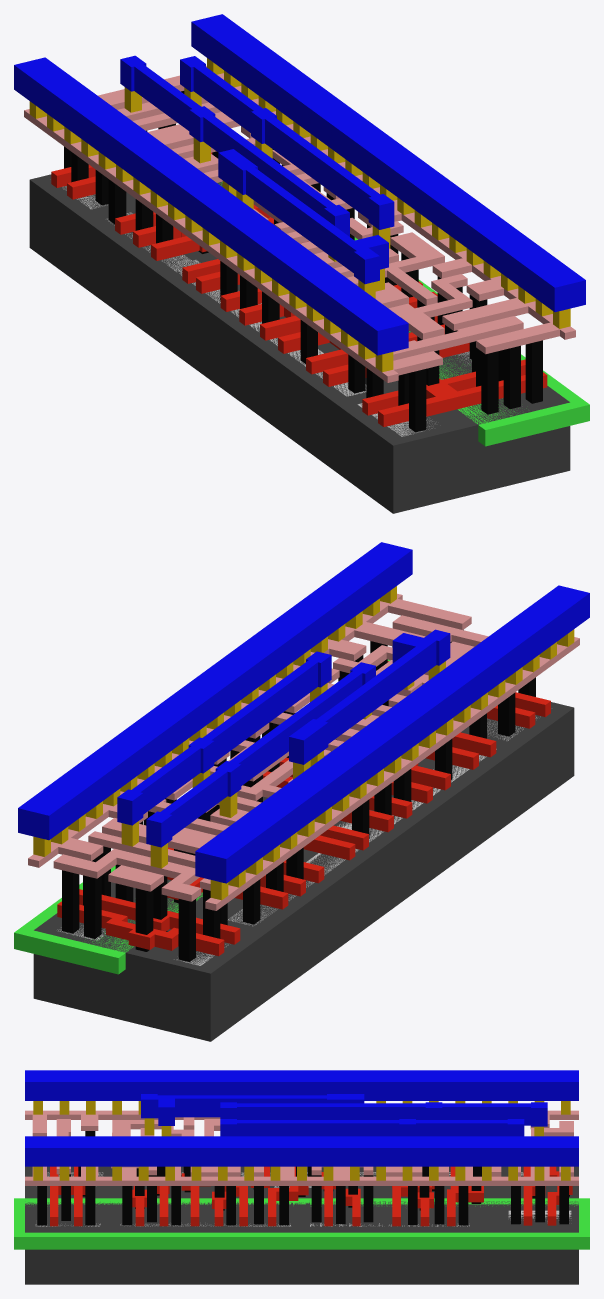
Rendered from sky130_fd_sc_hd__dfrtp_2.obj.
3 views of the same model, one above another, from view 1: azimuth 30°, elevation 25°; view 2: azimuth 150°, elevation 25°; view 3: azimuth 270°, elevation 25° (orthographic). The views are drawn at different scales.
Parts seen in each view (by area): view 1: metal1, subs, li, licon, poly, mcon, nwell, diff; view 2: metal1, subs, li, licon, poly, mcon, nwell, diff; view 3: metal1, subs, nwell, li, licon, poly, mcon, tap.
Part boxes in pixels (box(x1,y1,x2,y2)): metal1: box(14, 14, 585, 355); subs: box(29, 174, 570, 513); li: box(24, 65, 575, 382); licon: box(64, 91, 542, 432); poly: box(51, 152, 547, 426); mcon: box(29, 58, 570, 372); nwell: box(219, 182, 589, 446); diff: box(62, 186, 435, 436); metal1: box(18, 542, 589, 883); subs: box(33, 702, 574, 1041); li: box(28, 593, 579, 910); licon: box(62, 630, 535, 961); poly: box(57, 661, 550, 956); mcon: box(33, 586, 574, 900); nwell: box(14, 659, 390, 974); diff: box(174, 716, 540, 965); metal1: box(25, 1070, 578, 1166); subs: box(25, 1166, 578, 1284); nwell: box(14, 1198, 589, 1249); li: box(25, 1110, 578, 1185); licon: box(37, 1131, 569, 1225); poly: box(50, 1166, 572, 1226); mcon: box(33, 1101, 570, 1180); tap: box(35, 1210, 571, 1226).
Bounding box in the file's own units: 3.2 × 2.74 × 10.04.
